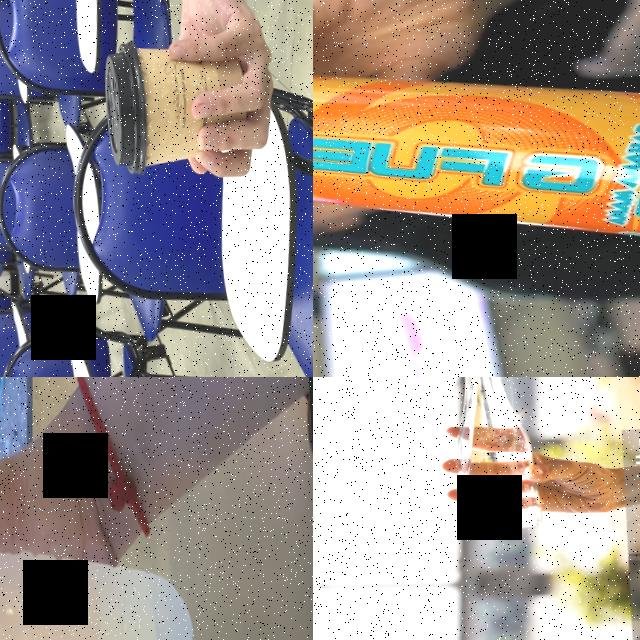bottle: (0, 489, 209, 640), (451, 377, 543, 534)
can: (313, 48, 640, 266)
cup: (100, 34, 250, 178)
